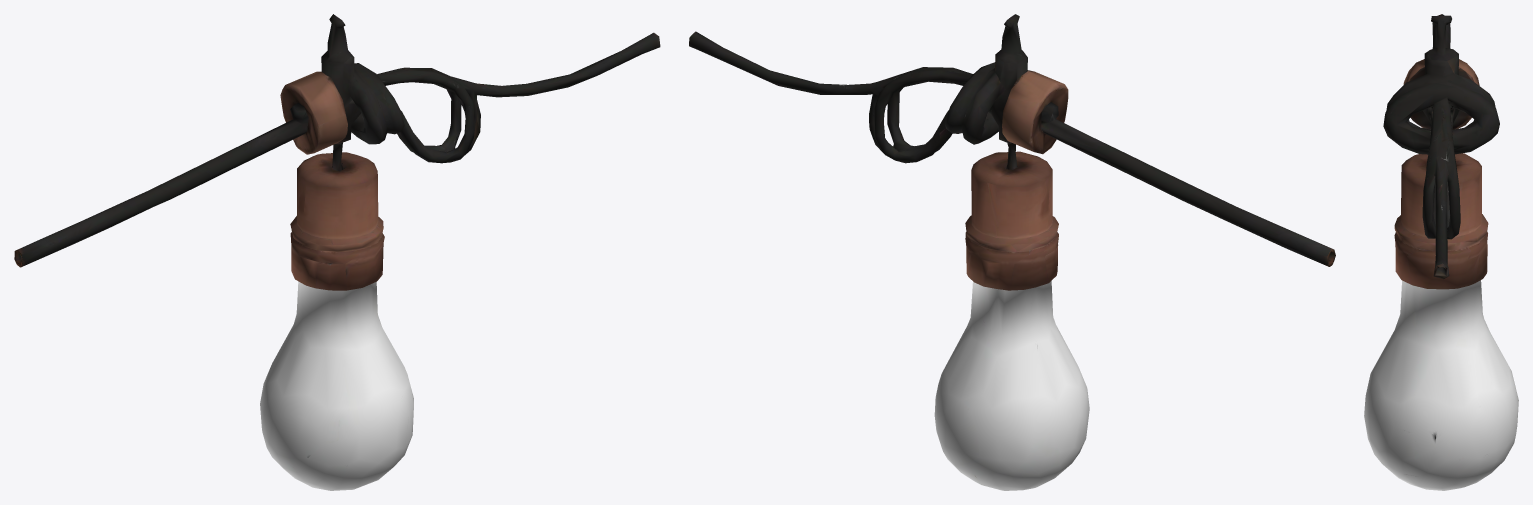
The picture shows the model from 3 angles, left to right: view 1: azimuth 30°, elevation 25°; view 2: azimuth 150°, elevation 25°; view 3: azimuth 270°, elevation 25°; orthographic projection.
Parts seen in each view (by area): view 1: SM_SM_AI_hanging_bulb; view 2: SM_SM_AI_hanging_bulb; view 3: SM_SM_AI_hanging_bulb.
Part boxes in pixels (x1,y1,x2,y2): SM_SM_AI_hanging_bulb: (14, 14, 660, 490); SM_SM_AI_hanging_bulb: (689, 14, 1335, 490); SM_SM_AI_hanging_bulb: (1364, 14, 1518, 490).
Size of the model in its own units: 0.8605 by 0.6 by 0.1801.
Materials: 1 (1 with a texture image).
